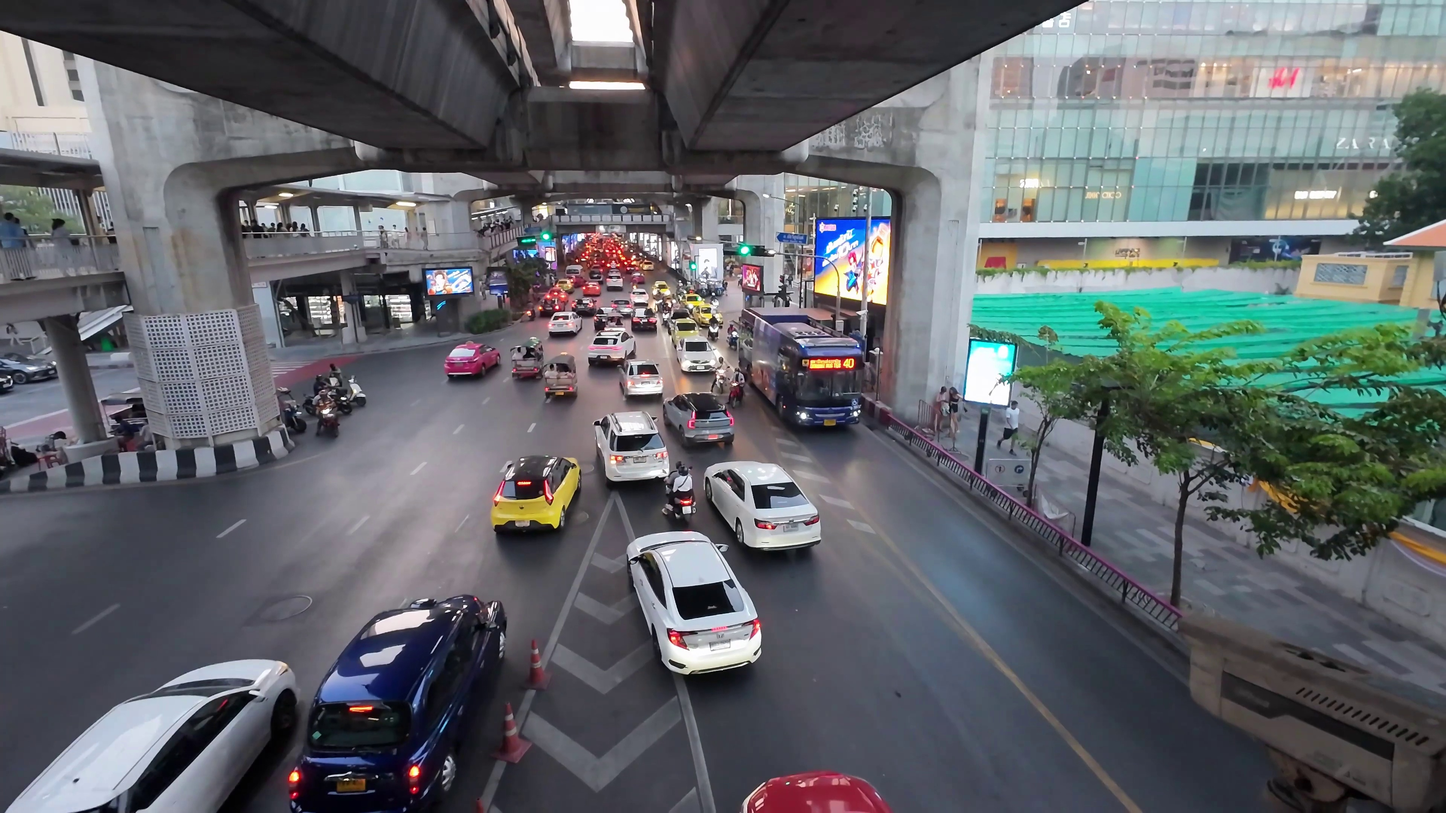license_plate: (78, 751, 229, 800), (347, 724, 453, 793), (659, 617, 728, 662), (775, 387, 837, 421), (732, 516, 792, 545), (514, 502, 560, 527), (778, 795, 854, 808), (611, 453, 650, 477), (684, 425, 719, 443), (458, 364, 487, 376), (598, 352, 622, 364), (550, 382, 569, 396), (688, 360, 709, 371)
no_seatbelt: (48, 681, 259, 758), (326, 626, 474, 735), (645, 552, 742, 624), (763, 339, 850, 392), (720, 475, 804, 520), (505, 465, 569, 505), (763, 776, 869, 797), (603, 419, 657, 457), (677, 399, 726, 428), (452, 346, 493, 365), (593, 335, 627, 353), (546, 362, 572, 384), (685, 344, 712, 362)
